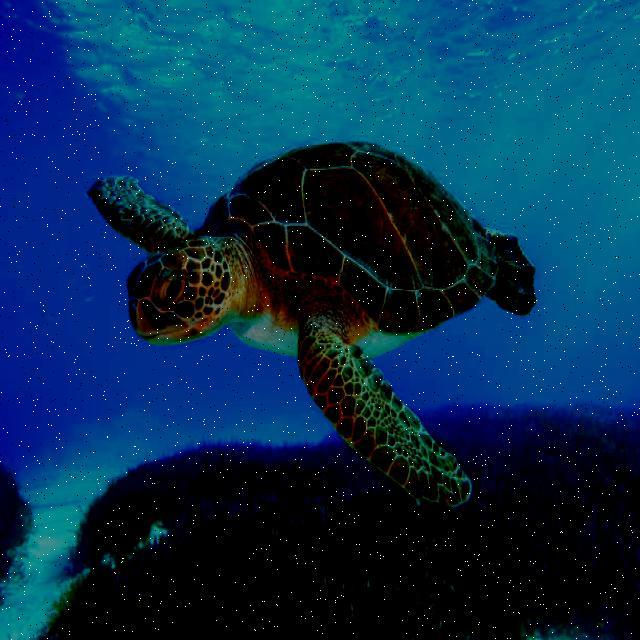tortoise: (85, 138, 548, 524)
